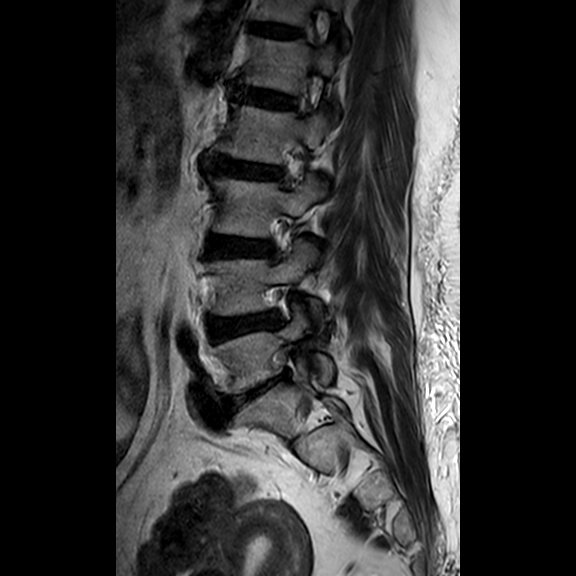LFS0: (270, 127, 319, 194), (284, 61, 331, 124), (257, 205, 299, 272), (256, 274, 302, 332)
LFS1: (262, 336, 308, 398)
